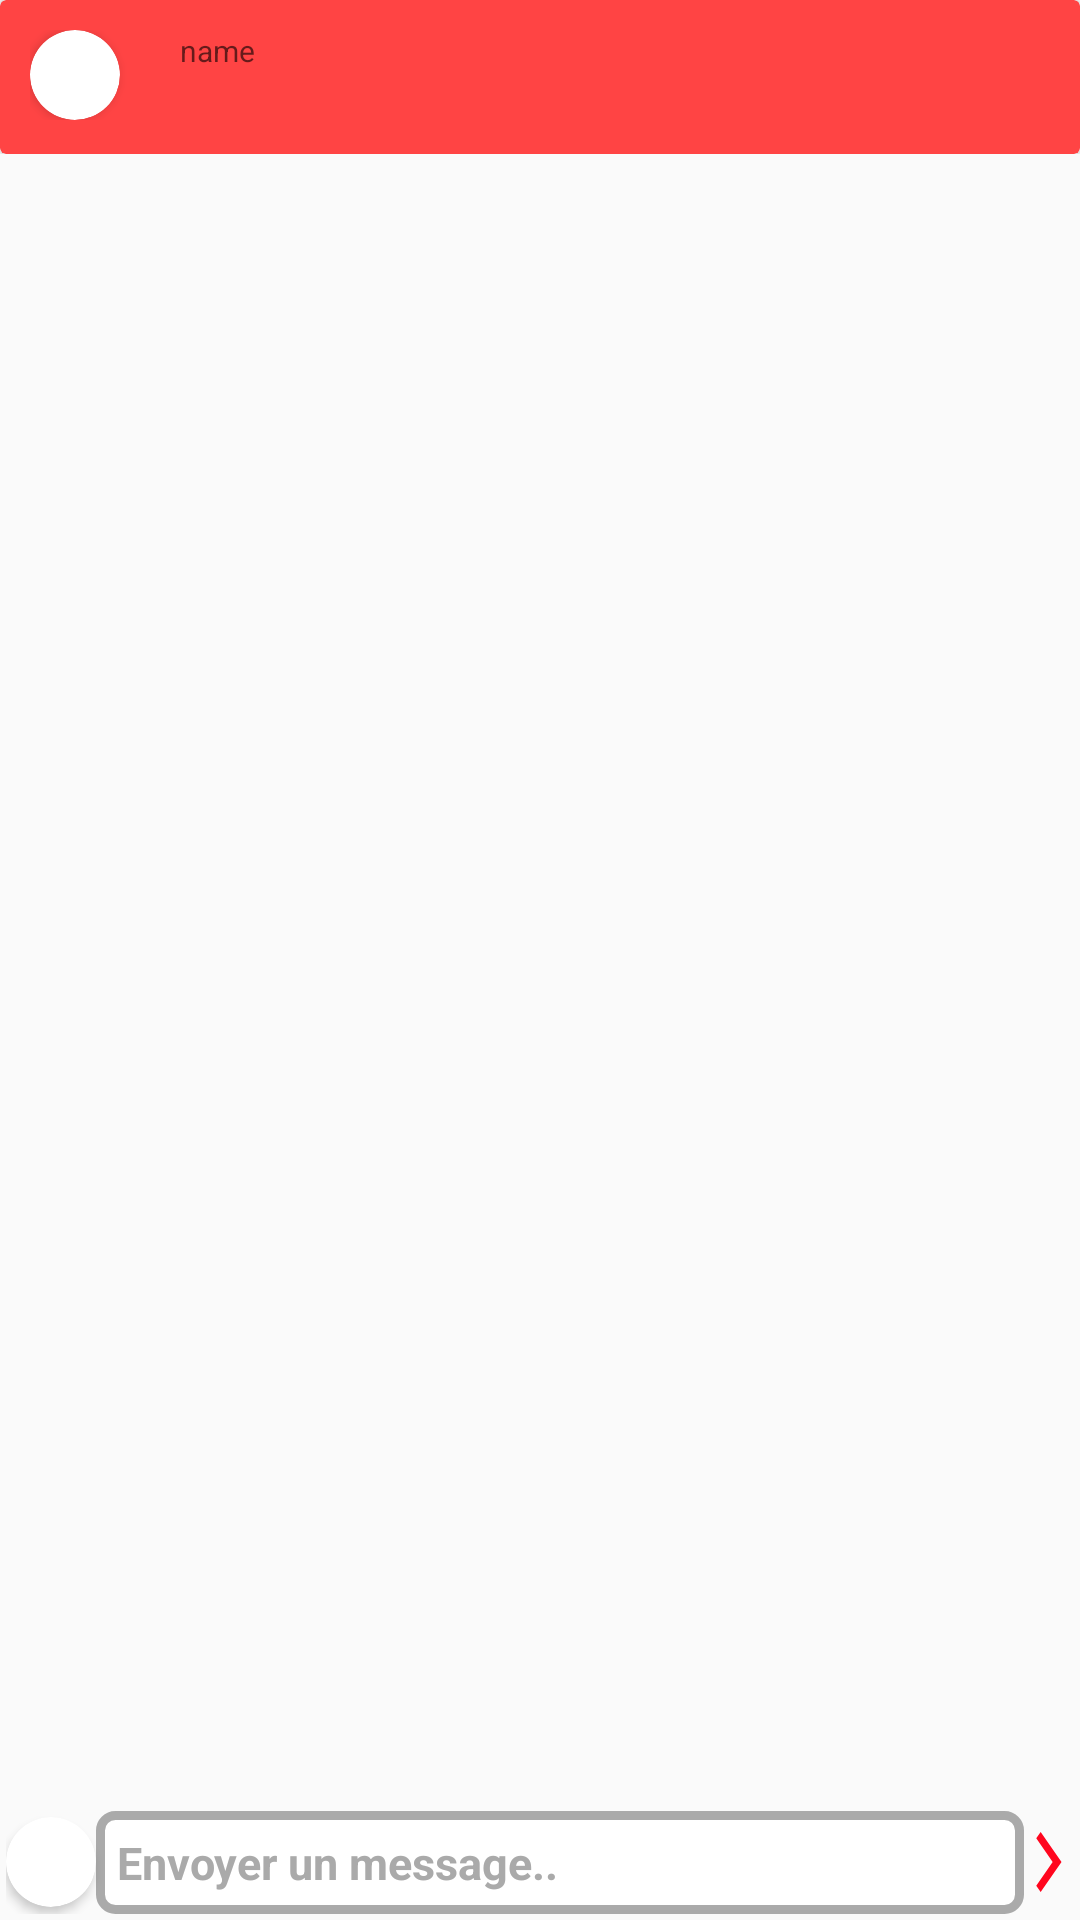

Screen size 1080 × 1920. Icon name, then its box in pixels as (x1, y1, x2, y2):
send: (1036, 1832, 1062, 1892)
